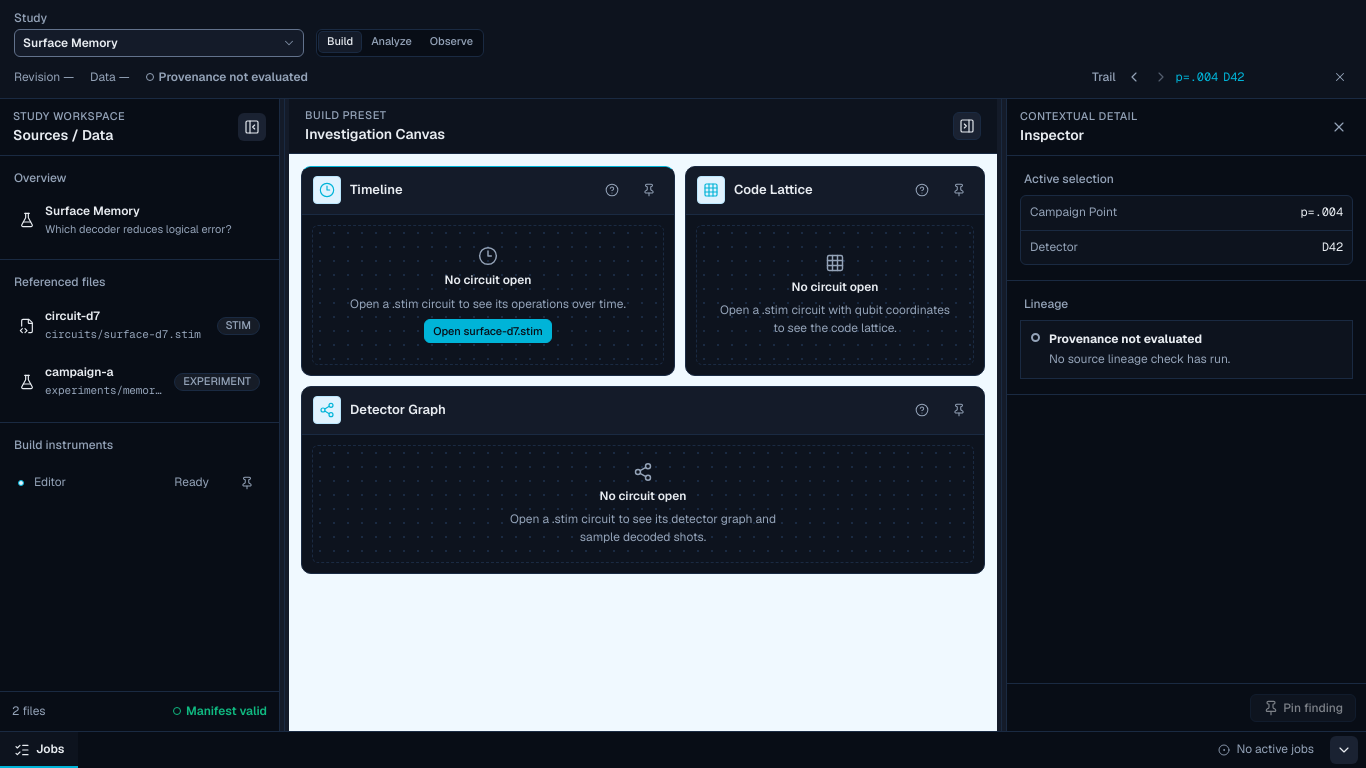
Test: <QecWorkbench /> › moves backward and forward through the shared Research Trail
The width and height of the screenshot is (1366, 768).
Check: the text "p=.004" next to "Trail" is shown, box [1176,69,1218,85]
Check: the text "D42" in the row of "Trail" is shown, box [1223,69,1244,85]
Click the button named "Back in research trail": (1134, 77) [1122,65,1146,89]
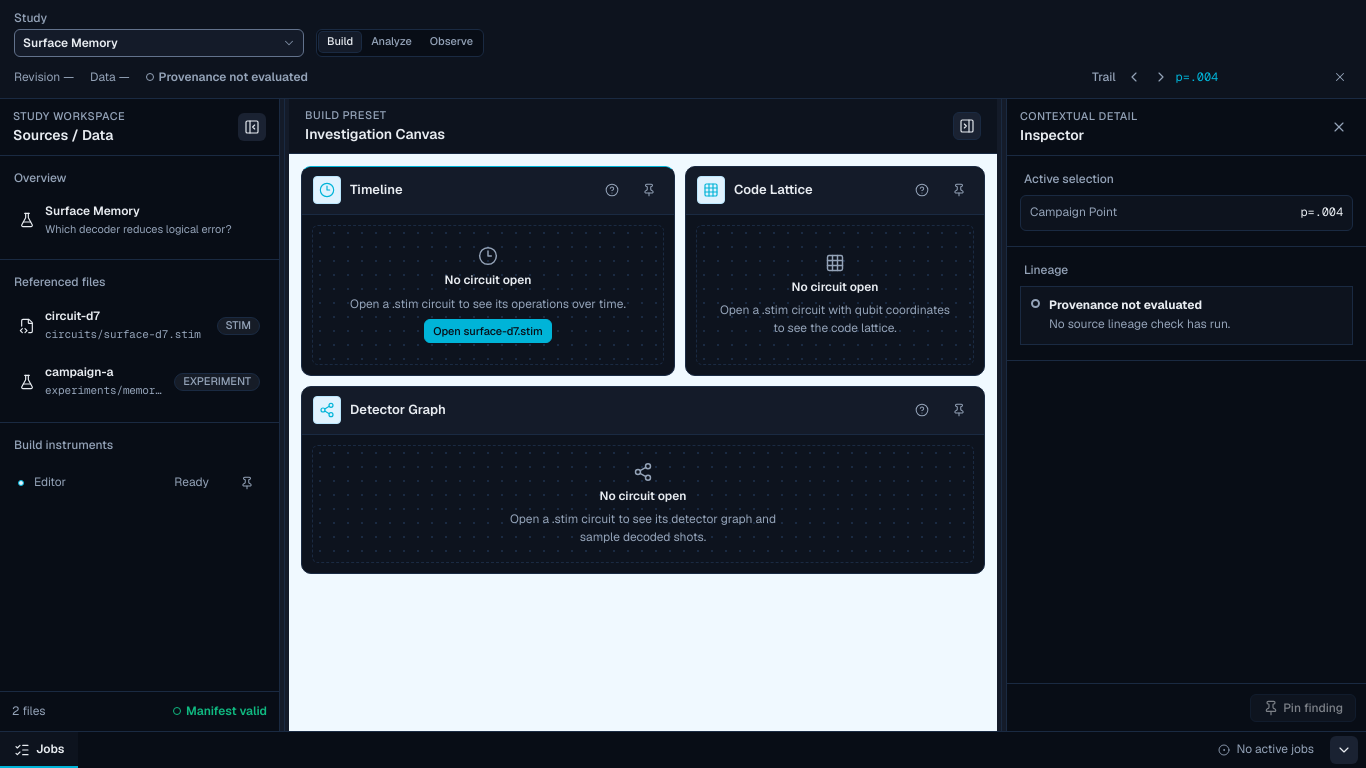
Check: the text "D42" is gone
Check: the button named "Forward in research trail" is enabled, box [1149,65,1173,89]
